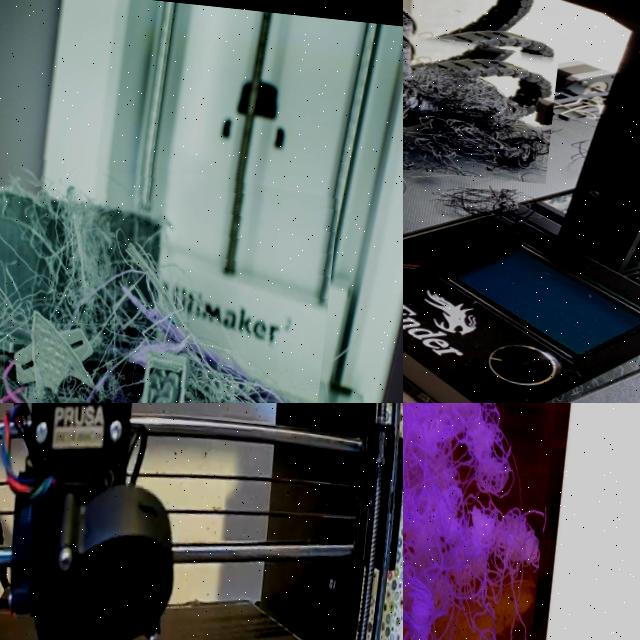spaghetti: (0, 132, 341, 403), (403, 403, 544, 640), (403, 0, 561, 184), (425, 176, 550, 228)
